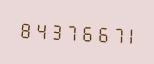eight: (17, 16, 31, 41)
four: (32, 17, 46, 42)
one: (122, 22, 136, 47)
seven: (107, 21, 121, 46), (62, 19, 76, 43)
six: (92, 20, 106, 45), (77, 20, 91, 44)
three: (47, 18, 61, 43)
